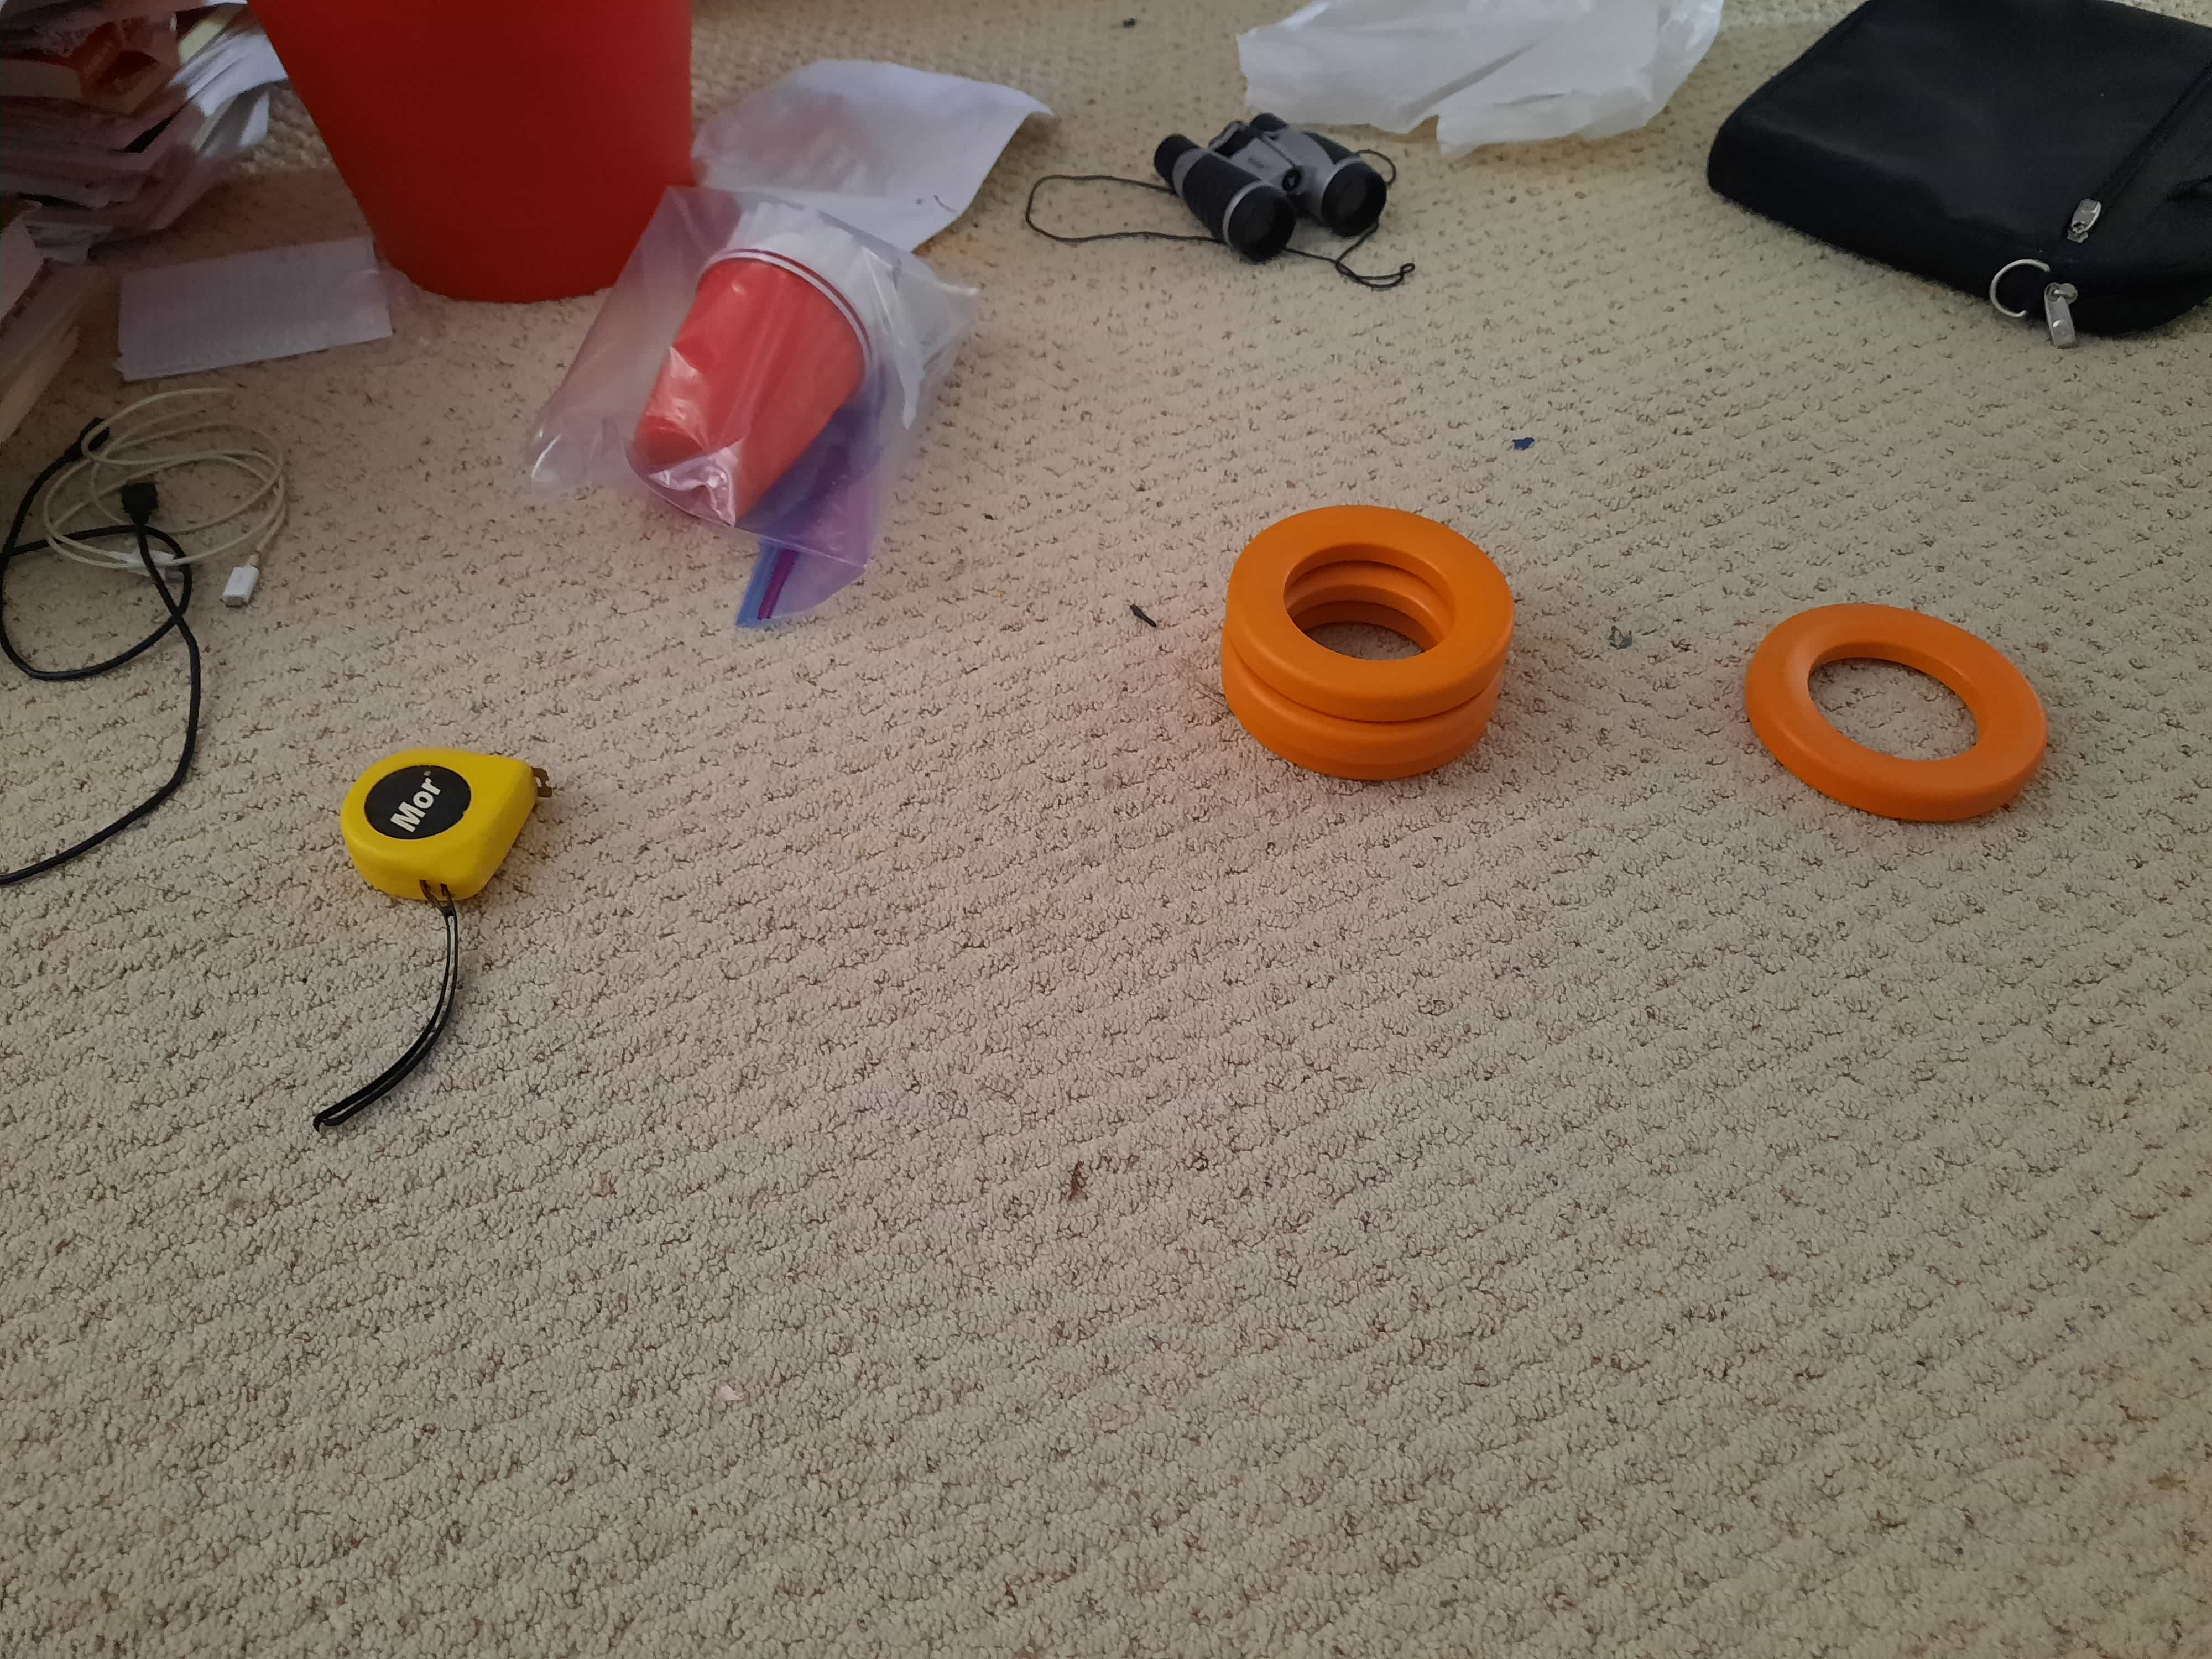FourStack: (1217, 518, 1510, 769)
OneStack: (1756, 606, 2052, 814)
